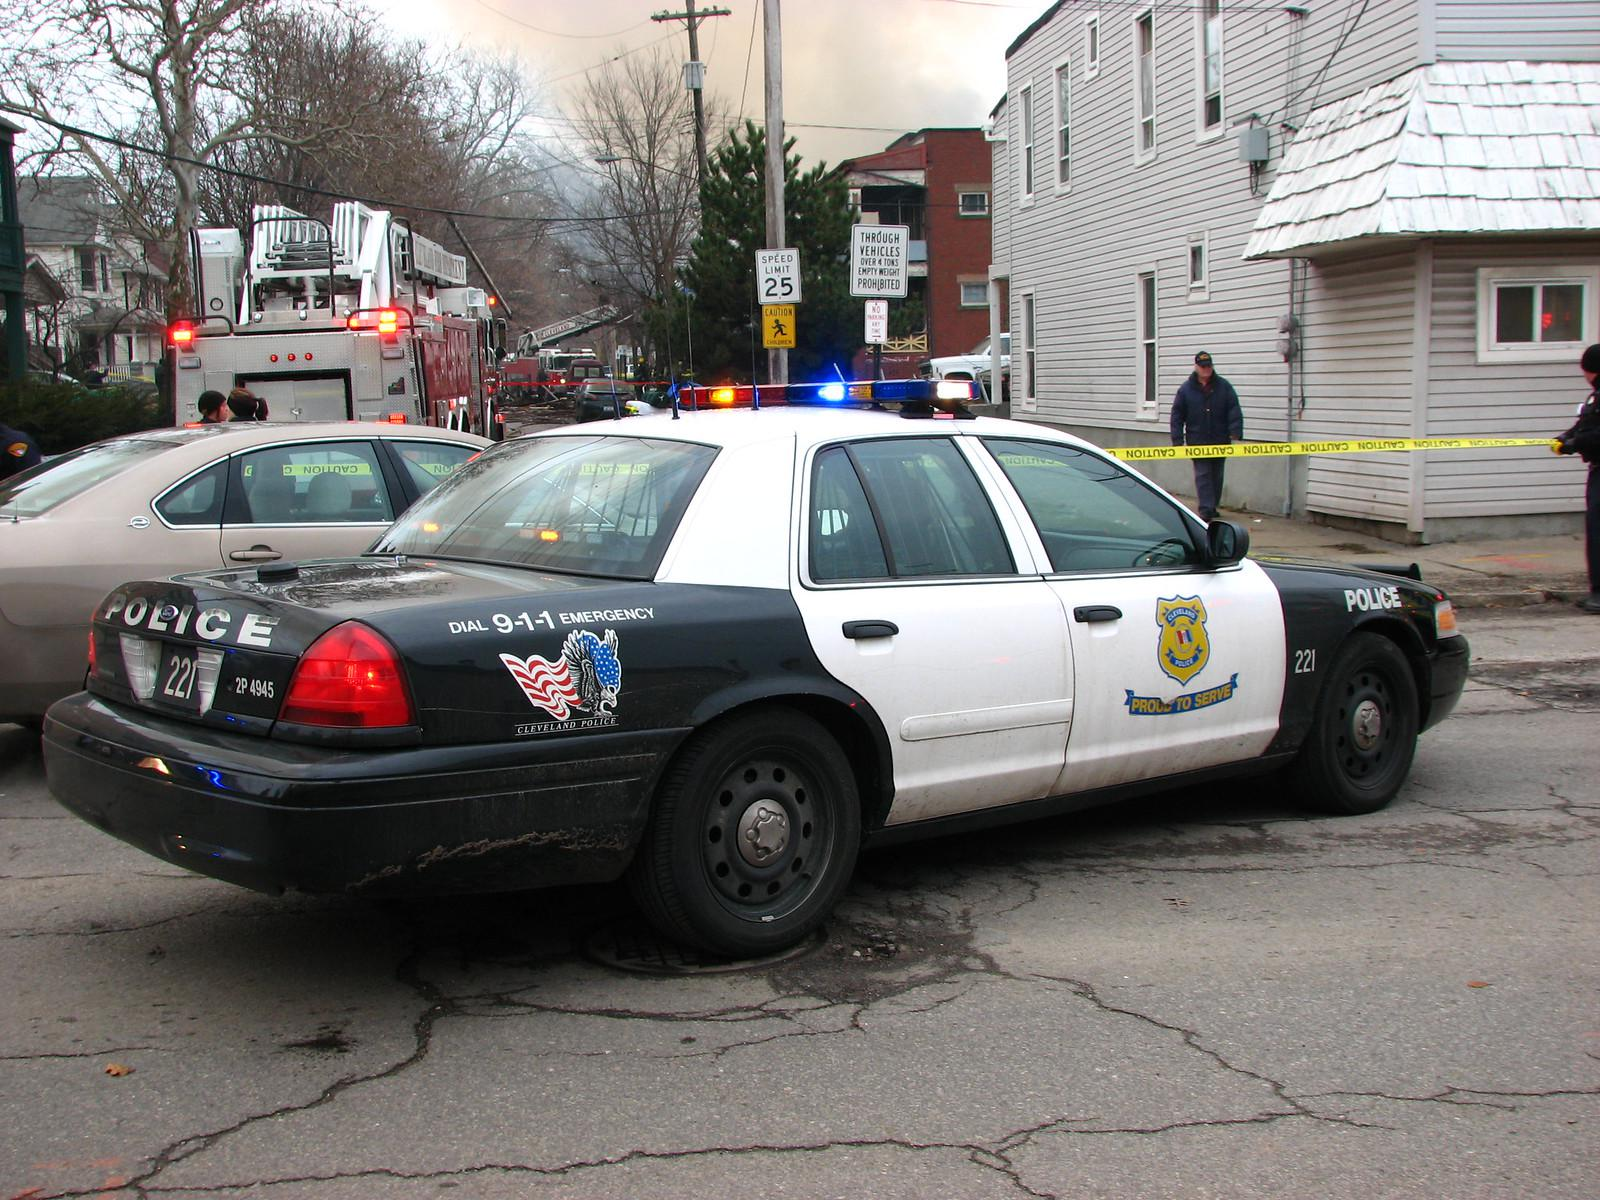rear-bumper-dent: (35, 707, 603, 886)
